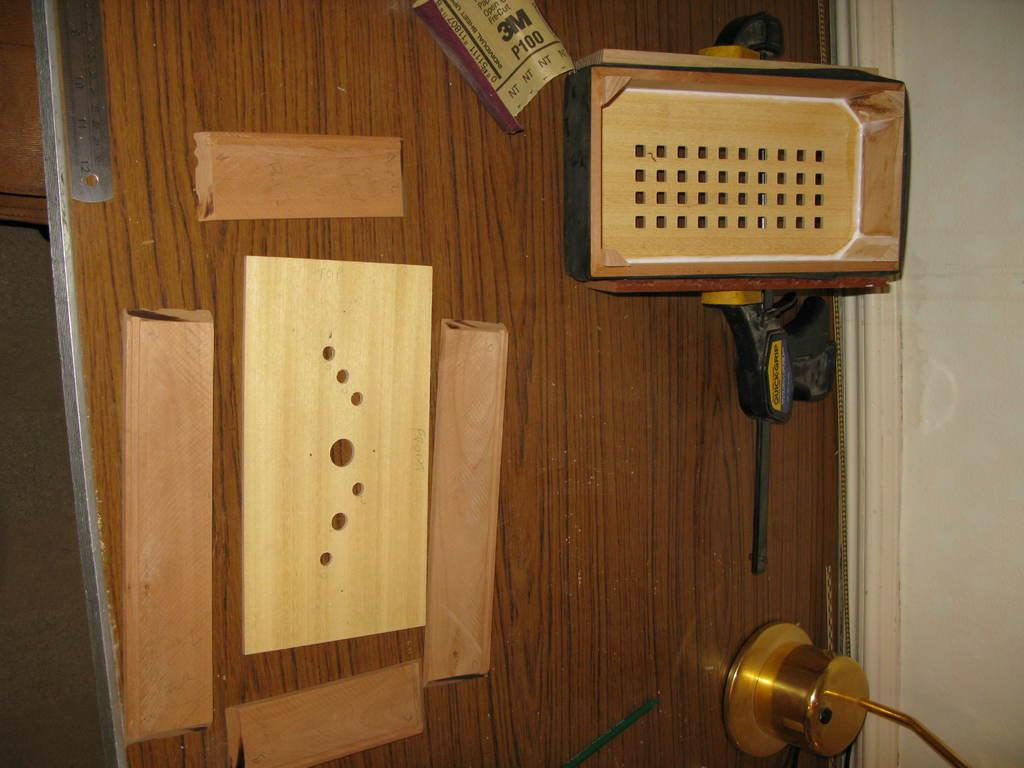handle: (751, 637, 879, 768)
